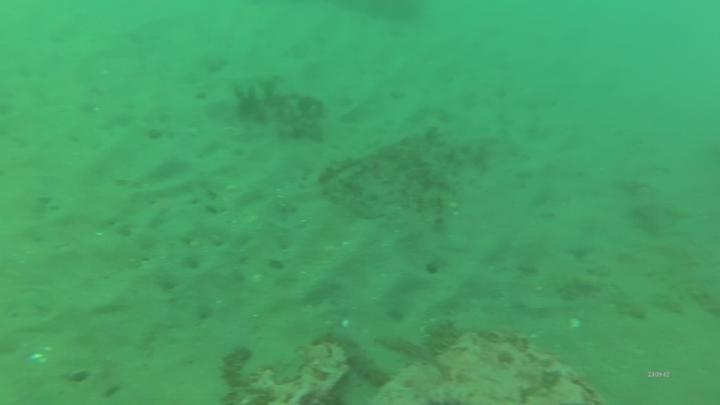holothurian: (320, 328, 387, 389), (219, 344, 254, 390)
